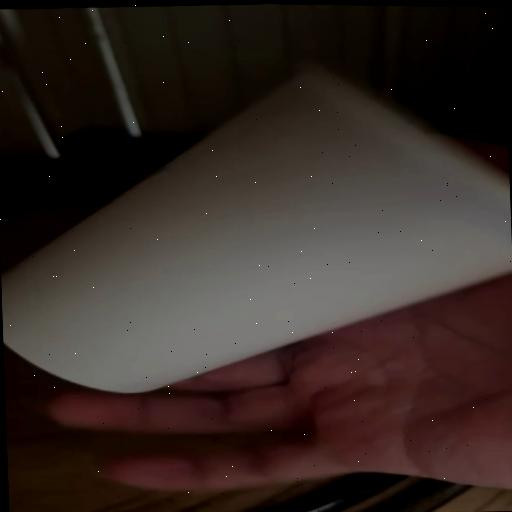Ly_giay: (1, 70, 512, 392)
